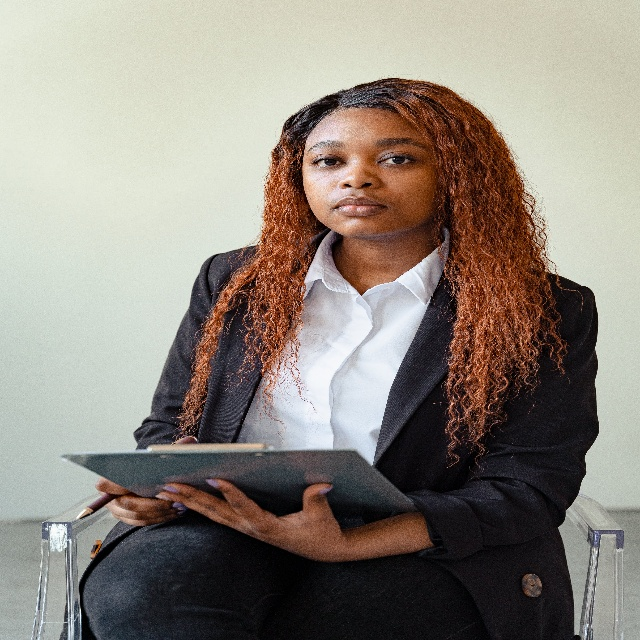Sin_guantes: (154, 477, 345, 564), (95, 477, 187, 527)
